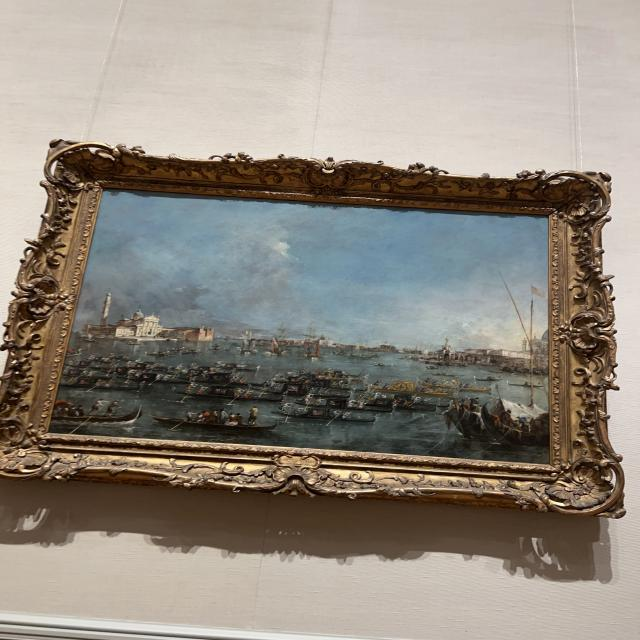ships: (51, 190, 547, 461)
